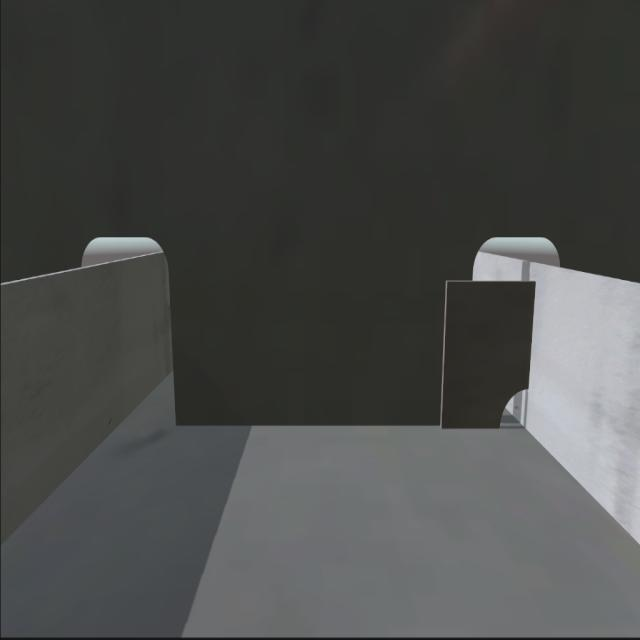fillet_hole: (497, 385, 529, 431)
fillet_yong_jeop_jang: (168, 404, 502, 434)
longi_yong_jeop_jang: (522, 266, 541, 400)
plate_CP01: (443, 276, 536, 436)
